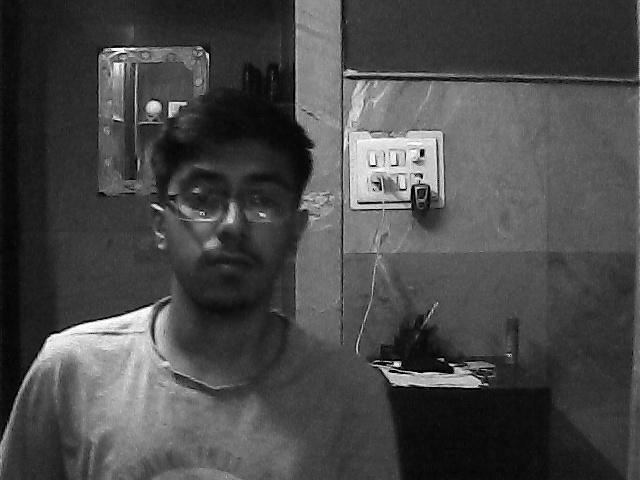nomask: (158, 137, 307, 316)
